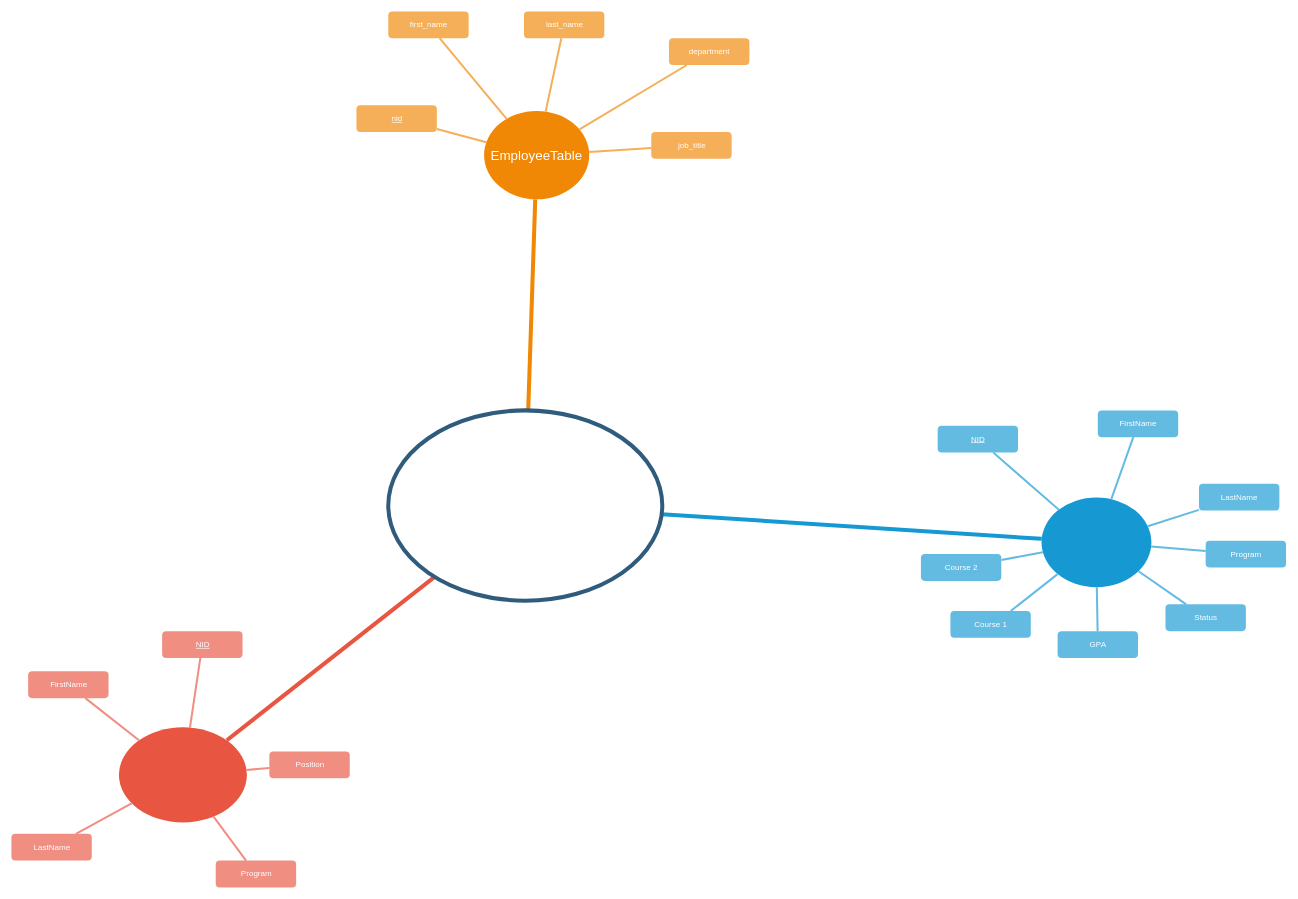
Image size: 1298x899. Some labels were removed from this diagram. The shapes that lost their labels are listed below. From the top down, each one's centre as x and y in pixels, then its label:
At (525,505): "StudentEmployeeDatabase".
At (1096,542): "StudentRegister".
At (183,774): "ExtracurricularList".
